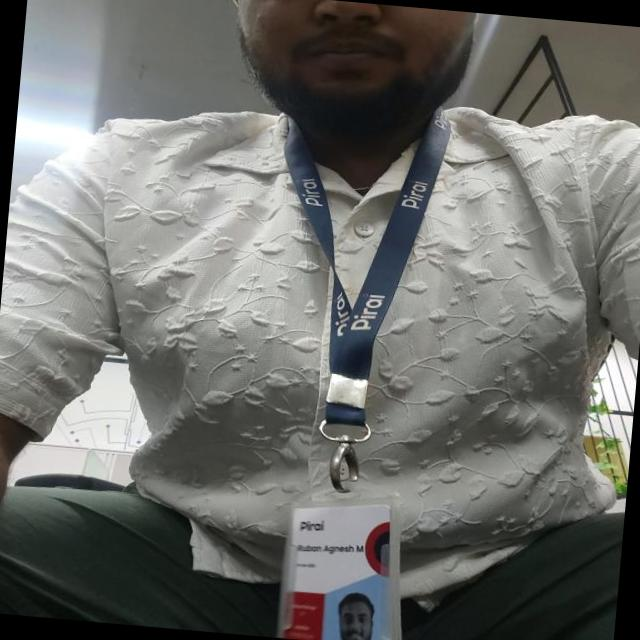id_card: (241, 105, 460, 640)
